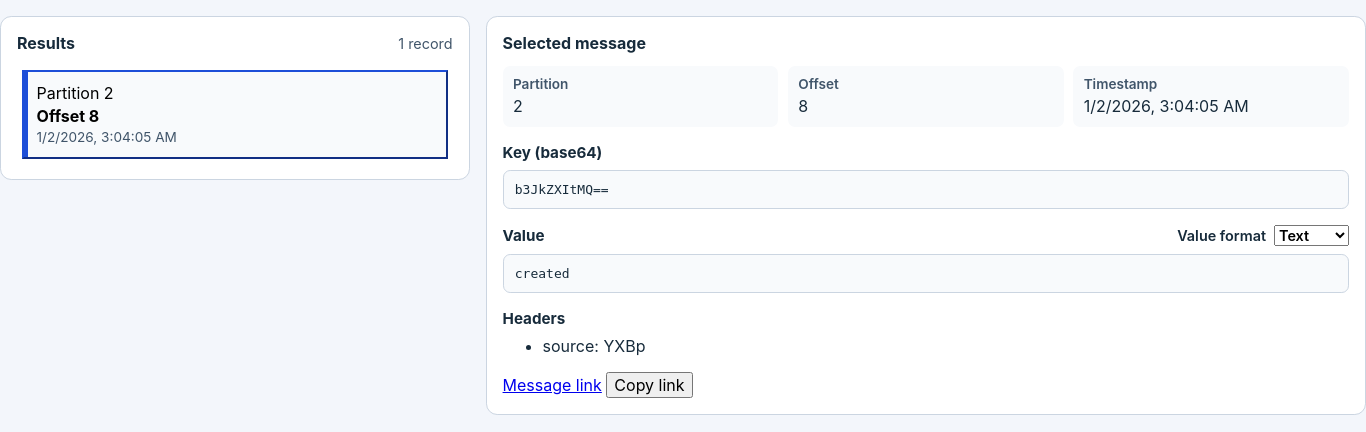
Test case: MessageWorkspace › reports clipboard failure and preserves a usable link
The width and height of the screenshot is (1366, 432).
What coordinates should you click on to do the following:
click the button with aria-label "Copy link for partition 2 offset 8"
I would click on:
 (649, 385)
Its box is x1=606 y1=372 x2=693 y2=398.
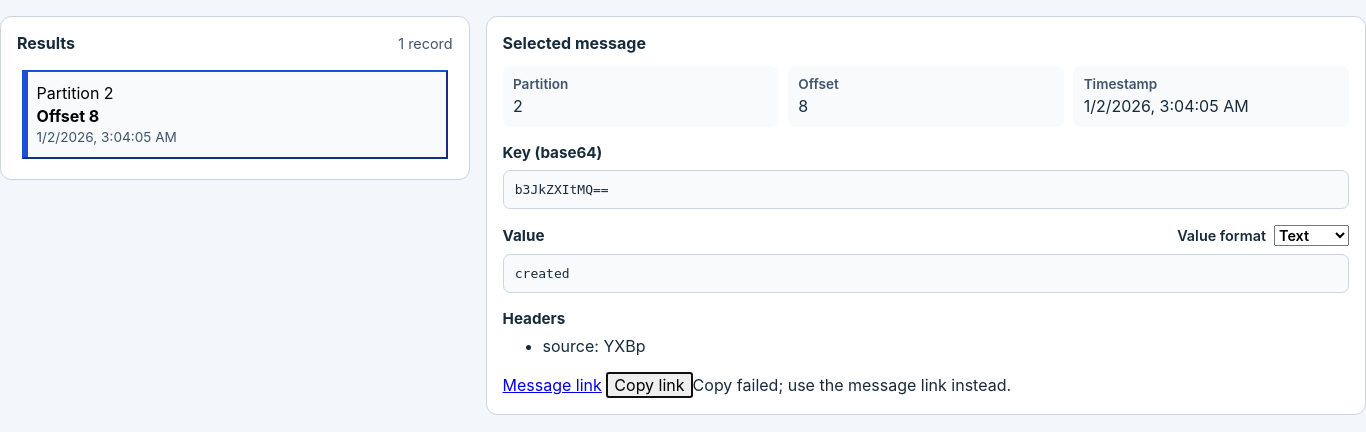
Expected: the link "Message link" is shown, x1=503 y1=375 x2=602 y2=395
Now the message shows "Copy failed", box x1=693 y1=375 x2=1011 y2=395
